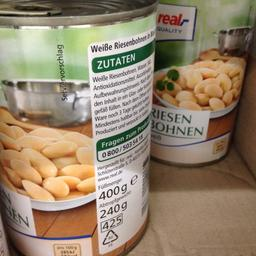beans: (2, 2, 156, 255), (158, 2, 252, 161)
